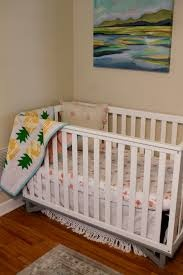crib: (23, 107, 182, 263)
